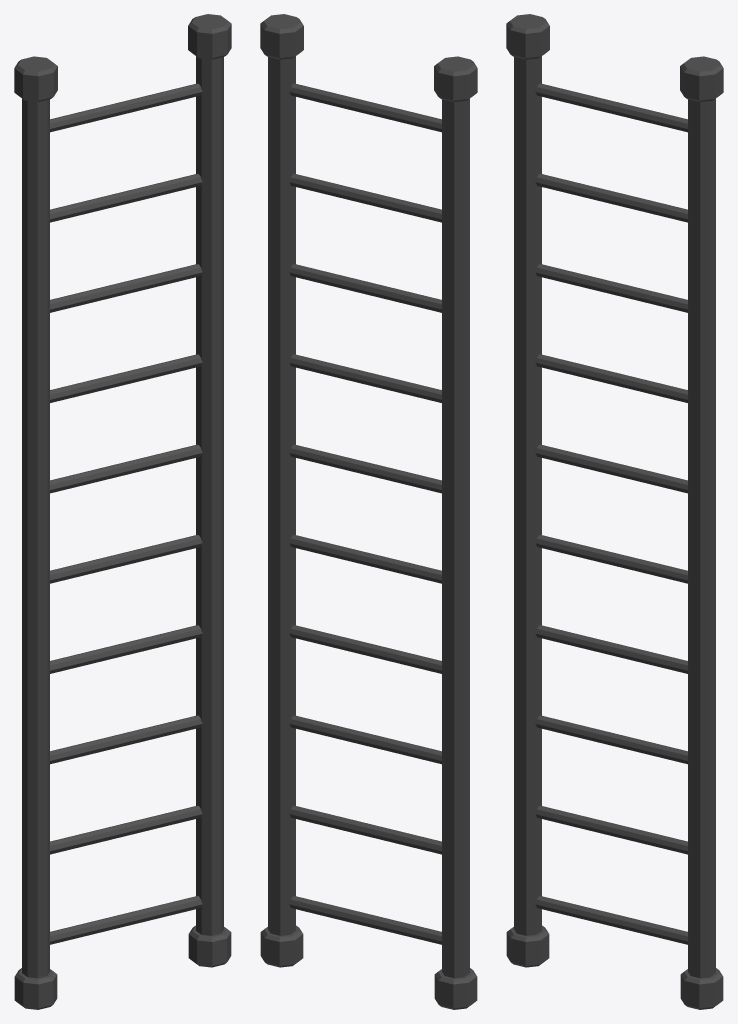
File: Ladder.fbx
3 renders of one model, left to right at view 1: azimuth 30°, elevation 25°; view 2: azimuth 150°, elevation 25°; view 3: azimuth 330°, elevation 25°, orthographic.
Visible parts, largest first — view 1: Ladder; view 2: Ladder; view 3: Ladder.
Boxes of the visible parts, <box> form: Ladder: <box>14,14,231,1009</box>; Ladder: <box>260,14,477,1009</box>; Ladder: <box>506,14,723,1009</box>.
Size of the model in its own units: 0.7214 by 3.1 by 0.1205.
1 material, 1 textured.
